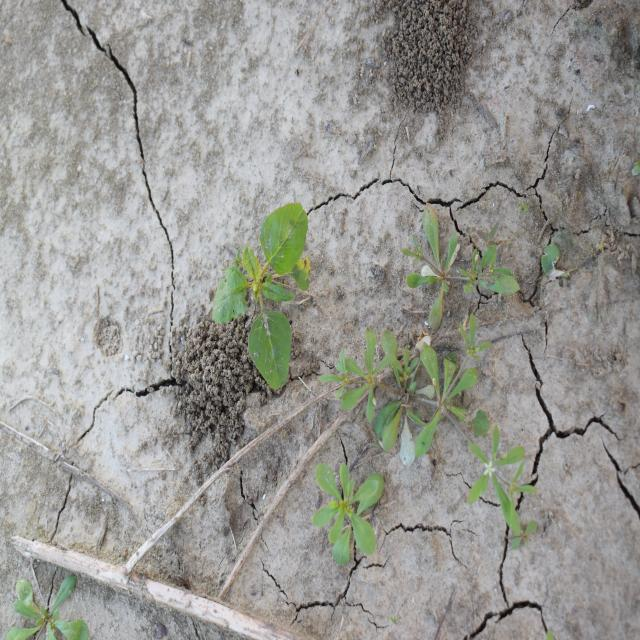Carpetweed: (318, 312, 538, 537), (400, 202, 521, 332), (311, 460, 386, 567), (2, 572, 90, 639)
PalmerAmaranth: (211, 200, 312, 392)
